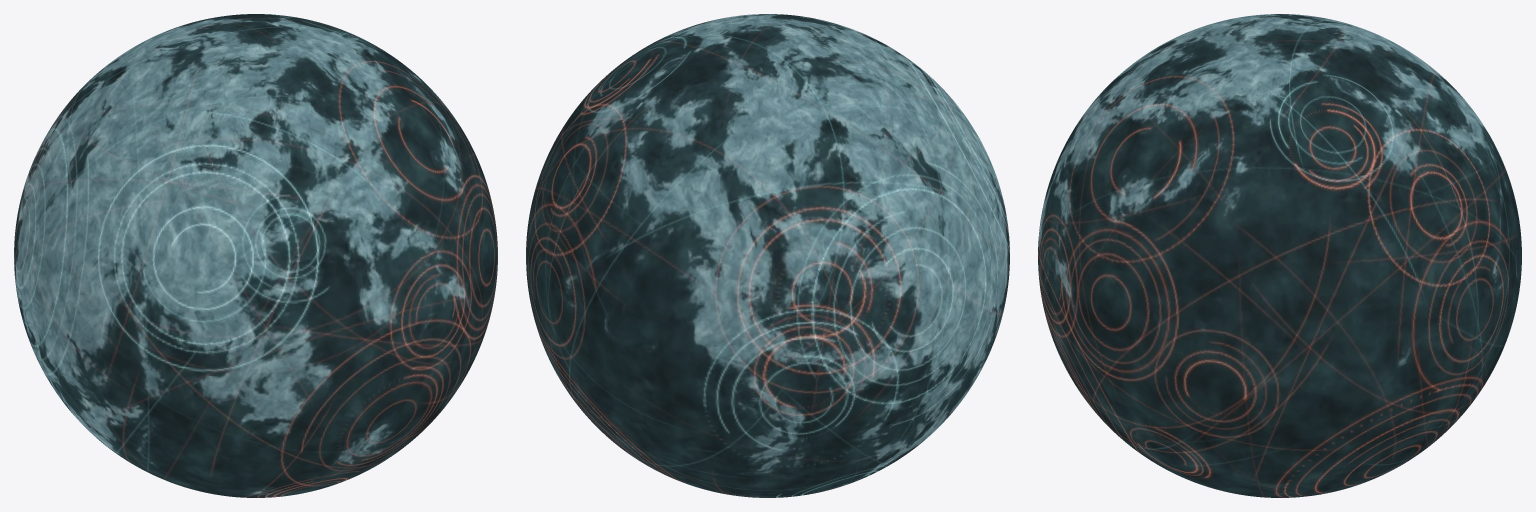
File: Arcanum.09f8ba494f.glb
3 views of the same model, side by side, from view 1: azimuth 30°, elevation 25°; view 2: azimuth 150°, elevation 25°; view 3: azimuth 270°, elevation 25° (orthographic).
Parts seen in each view (by area): view 1: Arcanum; view 2: Arcanum; view 3: Arcanum.
Boxes of the visible parts, x1,y1,x2,y2 form: Arcanum: (14, 14, 497, 497); Arcanum: (526, 14, 1009, 497); Arcanum: (1038, 14, 1521, 497).
Size of the model in its own units: 2 by 2 by 2.
1 material, 1 textured.
